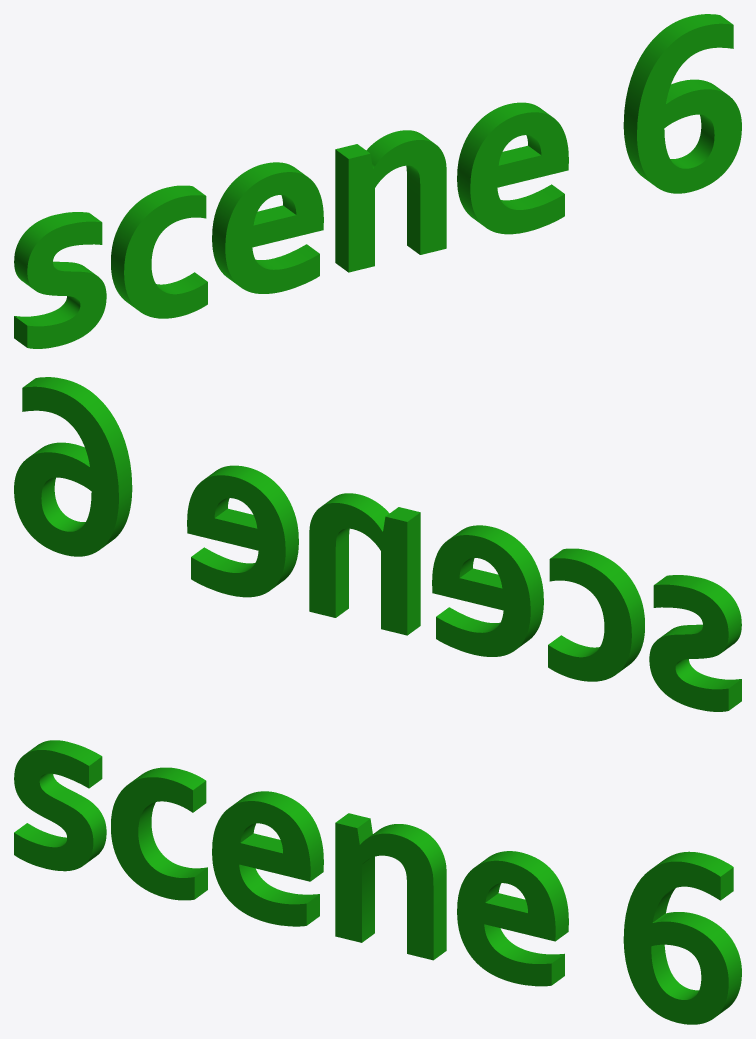
3 renders of one model, top to bottom at view 1: azimuth 30°, elevation 25°; view 2: azimuth 150°, elevation 25°; view 3: azimuth 330°, elevation 25°, orthographic.
Visible parts, largest first — view 1: Polygon_2, Polygon_3, Polygon_5, Polygon_4, Polygon, Polygon_6; view 2: Polygon_2, Polygon_3, Polygon_5, Polygon_4, Polygon, Polygon_6; view 3: Polygon_2, Polygon_5, Polygon_3, Polygon_4, Polygon, Polygon_6.
Boxes of the visible parts, x1,y1,x2,y2 form: Polygon_2: [623, 14, 741, 193]; Polygon_3: [457, 102, 568, 234]; Polygon_5: [212, 162, 323, 293]; Polygon_4: [335, 130, 446, 272]; Polygon: [14, 212, 106, 348]; Polygon_6: [111, 185, 207, 318]; Polygon_2: [14, 377, 132, 556]; Polygon_3: [187, 465, 298, 597]; Polygon_5: [432, 525, 543, 656]; Polygon_4: [309, 493, 420, 635]; Polygon: [649, 575, 741, 711]; Polygon_6: [548, 548, 644, 681]; Polygon_2: [623, 851, 741, 1024]; Polygon_5: [212, 791, 323, 926]; Polygon_3: [457, 851, 568, 986]; Polygon_4: [335, 813, 446, 960]; Polygon: [14, 740, 106, 871]; Polygon_6: [111, 767, 207, 900].
Size of the model in its own units: 623 by 136 by 20.
